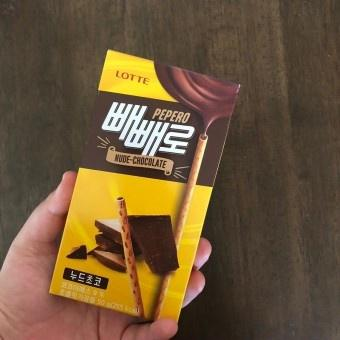snack: (49, 46, 242, 324)
